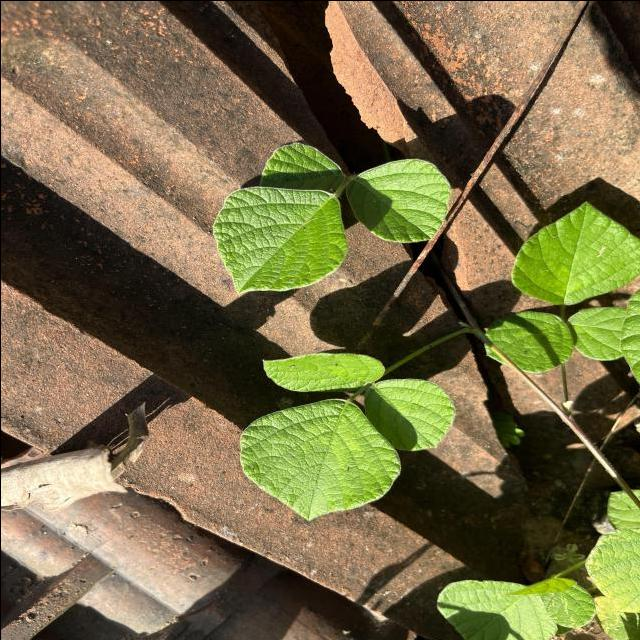Pseudarthria viscida: (236, 348, 457, 522), (209, 140, 452, 294), (480, 198, 640, 374)
